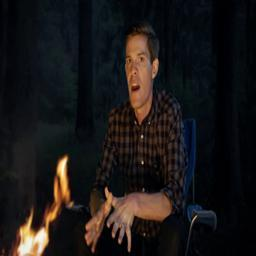fire: (12, 154, 73, 256)
